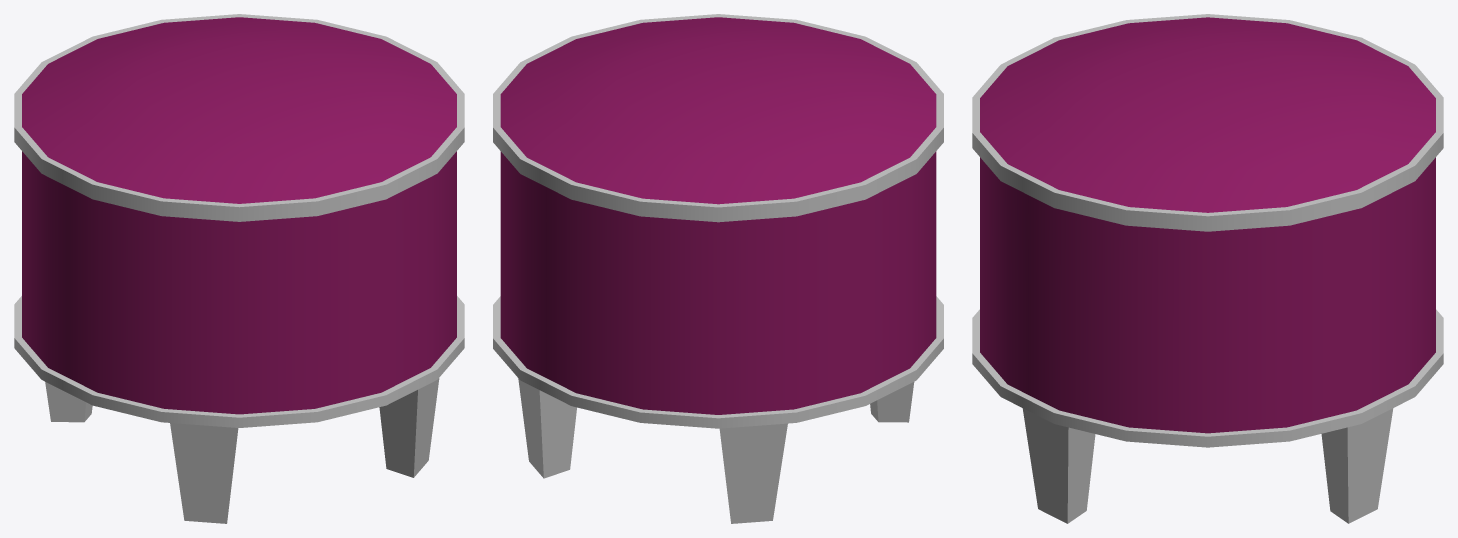
Rendered from puff_02.FBX.
3 renders of one model, left to right at view 1: azimuth 30°, elevation 25°; view 2: azimuth 150°, elevation 25°; view 3: azimuth 270°, elevation 25°, orthographic. The views are drawn at different scales.
Visible parts, largest first — view 1: Cylinder024; view 2: Cylinder024; view 3: Cylinder024.
Boxes of the visible parts, x1,y1,x2,y2 form: Cylinder024: [14, 14, 464, 523]; Cylinder024: [493, 14, 943, 523]; Cylinder024: [972, 14, 1443, 523].
Bounding box in the file's own units: 57.37 × 50.18 × 56.5.
